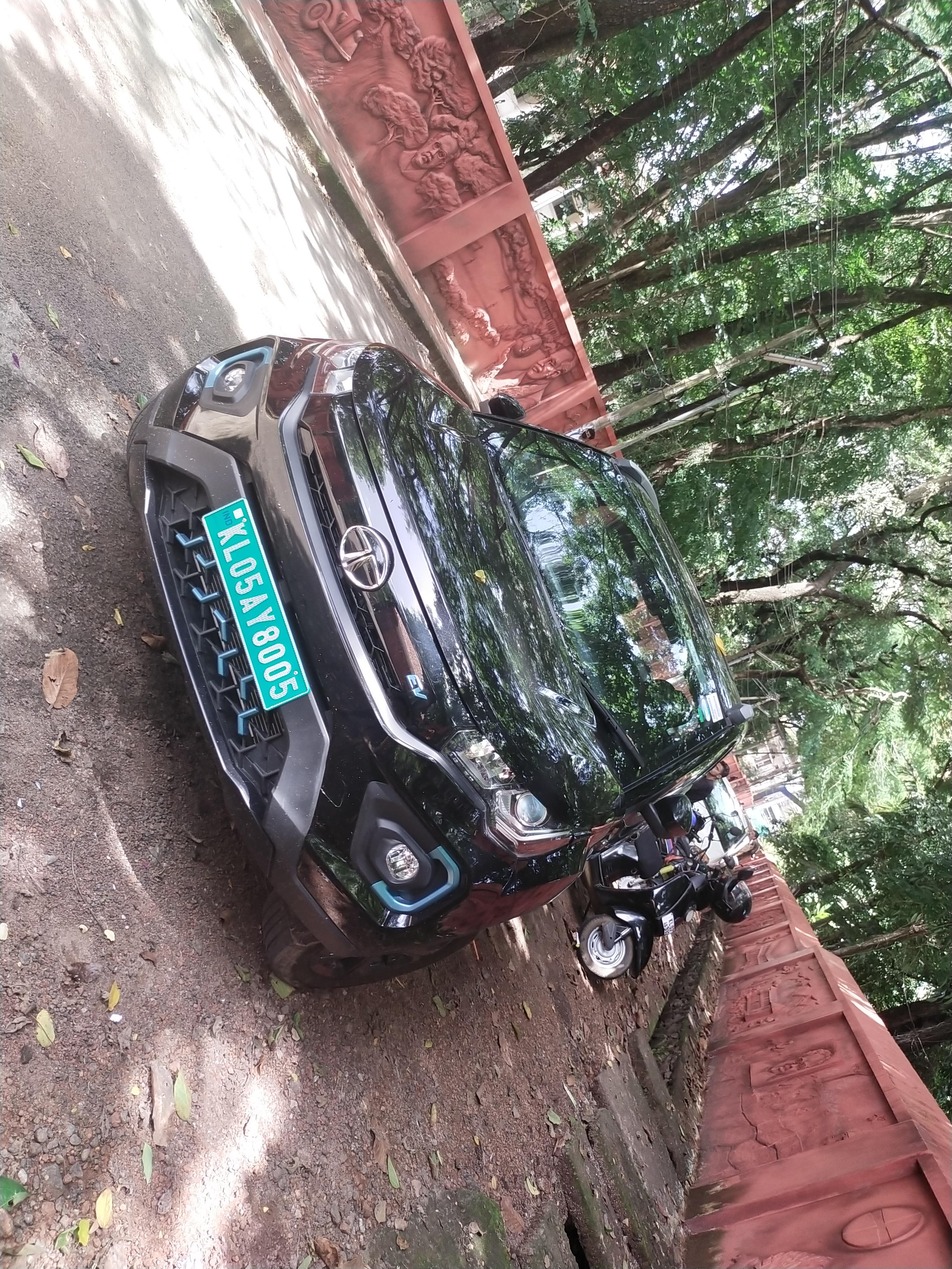green license plate: (201, 490, 314, 712)
